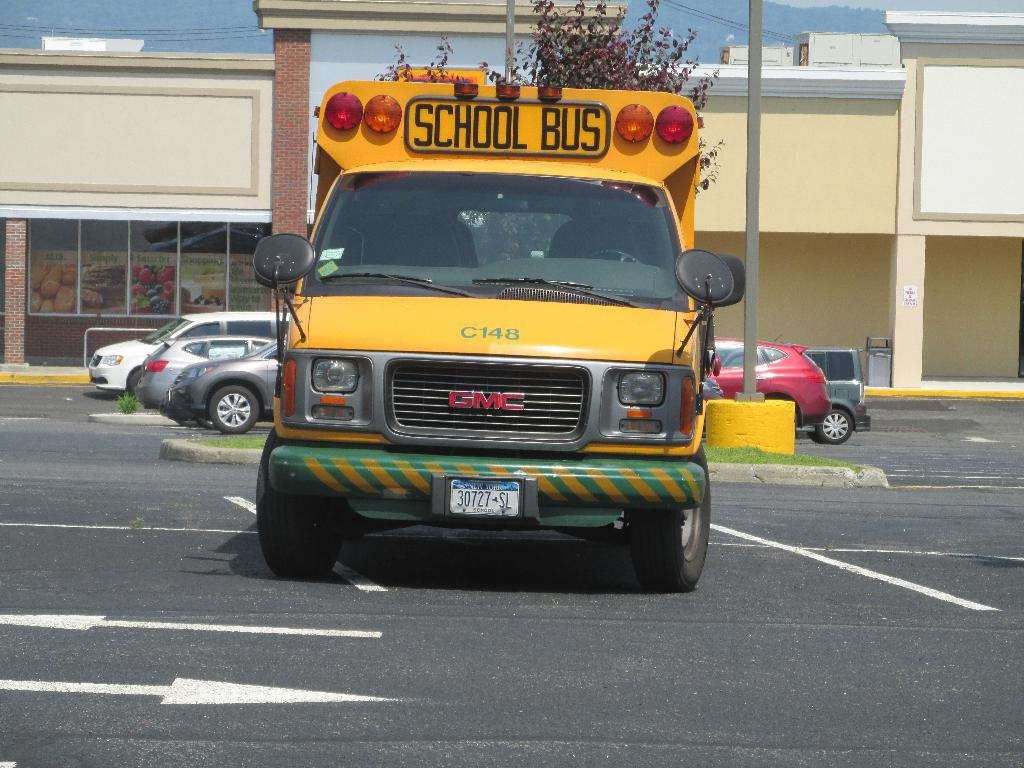Bus: (253, 66, 746, 591)
